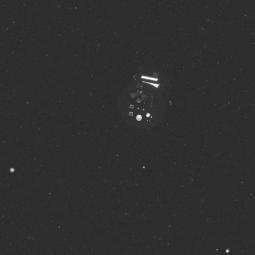proba_3_ocs: (100, 60, 178, 134)
